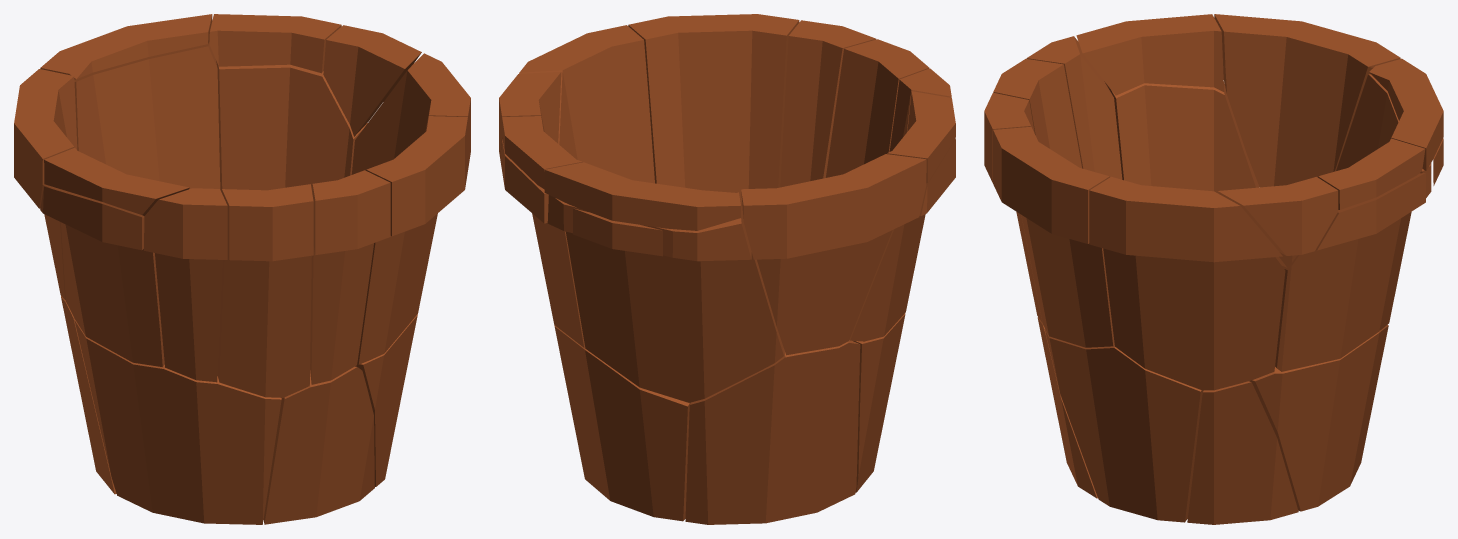
File: MediumPotShatter.fbx
The picture shows the model from 3 angles, left to right: view 1: azimuth 30°, elevation 25°; view 2: azimuth 150°, elevation 25°; view 3: azimuth 270°, elevation 25°; orthographic projection.
Parts seen in each view (by area): view 1: Pot_Medium_cell.005, Pot_Medium_cell.007, Pot_Medium_cell.006, Pot_Medium_cell.010, Pot_Medium_cell.009, Pot_Medium_cell.017, Pot_Medium_cell.018, Pot_Medium_cell.019, Pot_Medium_cell.012, Pot_Medium_cell.004, Pot_Medium_cell.001, Pot_Medium_cell.011 (+5 smaller); view 2: Pot_Medium_cell.006, Pot_Medium_cell, Pot_Medium_cell.017, Pot_Medium_cell.004, Pot_Medium_cell.014, Pot_Medium_cell.001, Pot_Medium_cell.012, Pot_Medium_cell.002, Pot_Medium_cell.007, Pot_Medium_cell.009, Pot_Medium_cell.010, Pot_Medium_cell.005 (+5 smaller); view 3: Pot_Medium_cell.001, Pot_Medium_cell.004, Pot_Medium_cell.003, Pot_Medium_cell.017, Pot_Medium_cell.010, Pot_Medium_cell.014, Pot_Medium_cell.009, Pot_Medium_cell.008, Pot_Medium_cell.015, Pot_Medium_cell.011, Pot_Medium_cell.019, Pot_Medium_cell.007 (+5 smaller).
Boxes of the visible parts, x1,y1,x2,y2 form: Pot_Medium_cell.005: (74,319,281,524); Pot_Medium_cell.007: (217,184,313,397); Pot_Medium_cell.006: (74,42,220,189); Pot_Medium_cell.010: (216,60,367,191); Pot_Medium_cell.009: (40,186,164,366); Pot_Medium_cell.017: (357,116,467,364); Pot_Medium_cell.018: (263,366,374,524); Pot_Medium_cell.019: (144,188,227,382); Pot_Medium_cell.012: (310,170,390,384); Pot_Medium_cell.004: (14,69,77,299); Pot_Medium_cell.001: (351,53,470,174); Pot_Medium_cell.011: (323,25,421,136); Pot_Medium_cell.006: (547,195,783,402); Pot_Medium_cell: (685,340,860,524); Pot_Medium_cell.017: (628,14,799,205); Pot_Medium_cell.004: (741,154,926,355); Pot_Medium_cell.014: (554,325,690,521); Pot_Medium_cell.001: (519,25,654,183); Pot_Medium_cell.012: (780,20,876,187); Pot_Medium_cell.002: (544,162,740,230); Pot_Medium_cell.007: (826,39,929,177); Pot_Medium_cell.009: (849,138,955,341); Pot_Medium_cell.010: (500,139,585,347); Pot_Medium_cell.005: (853,313,905,492); Pot_Medium_cell.001: (1089,176,1285,390); Pot_Medium_cell.004: (1214,14,1400,187); Pot_Medium_cell.003: (1044,328,1203,522); Pot_Medium_cell.017: (993,126,1114,347); Pot_Medium_cell.010: (1275,173,1425,371); Pot_Medium_cell.014: (1249,324,1388,511); Pot_Medium_cell.009: (1104,81,1259,194); Pot_Medium_cell.008: (1187,381,1298,524); Pot_Medium_cell.015: (1076,14,1224,95); Pot_Medium_cell.011: (1218,177,1338,267); Pot_Medium_cell.019: (1026,36,1122,179); Pot_Medium_cell.007: (993,59,1081,168).
Bounding box in the file's own units: 40.32 × 34.06 × 40.32.
